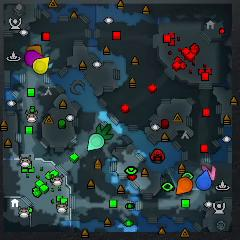p1: (196, 170, 212, 191)
p2: (87, 134, 104, 151)
p3: (25, 51, 44, 66)
p4: (33, 57, 49, 75)
p5: (176, 177, 194, 195)
x1: (202, 165, 215, 180)
x3: (45, 53, 53, 68)
x4: (97, 124, 113, 140)
x5: (26, 44, 42, 55)
